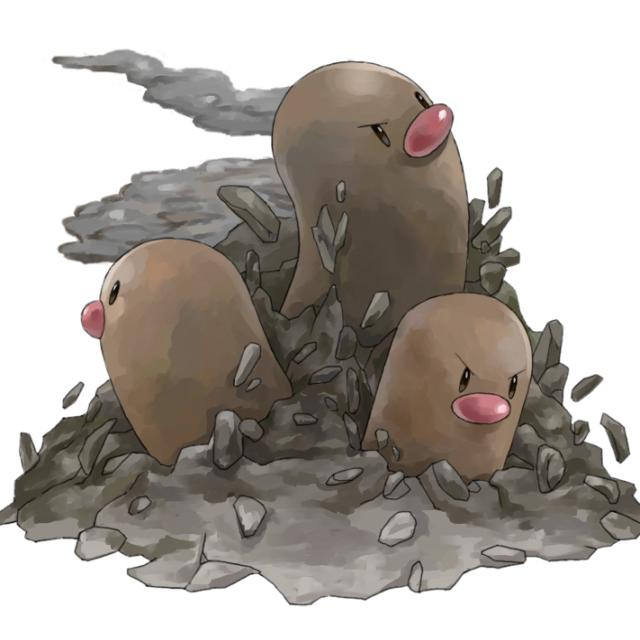Dugtrio: (72, 57, 536, 488)
